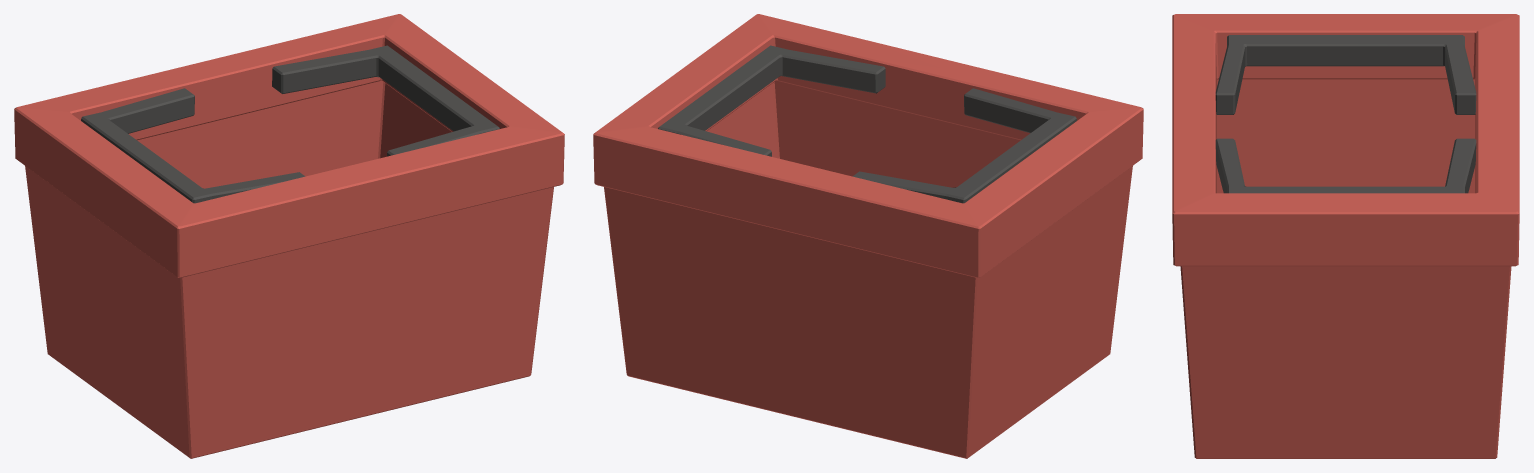
File: Basket_Closed_Red.fbx
3 renders of one model, left to right at view 1: azimuth 30°, elevation 25°; view 2: azimuth 150°, elevation 25°; view 3: azimuth 270°, elevation 25°, orthographic. The views are drawn at different scales.
Parts seen in each view (by area): view 1: Basket_close; view 2: Basket_close; view 3: Basket_close.
Boxes of the visible parts, left/top/right/bottom form: Basket_close: left=14, top=14, right=564, bottom=458; Basket_close: left=593, top=14, right=1143, bottom=458; Basket_close: left=1172, top=14, right=1519, bottom=458.
Bounding box in the file's own units: 0.9336 × 0.5675 × 0.6874.
1 material, 1 textured.
